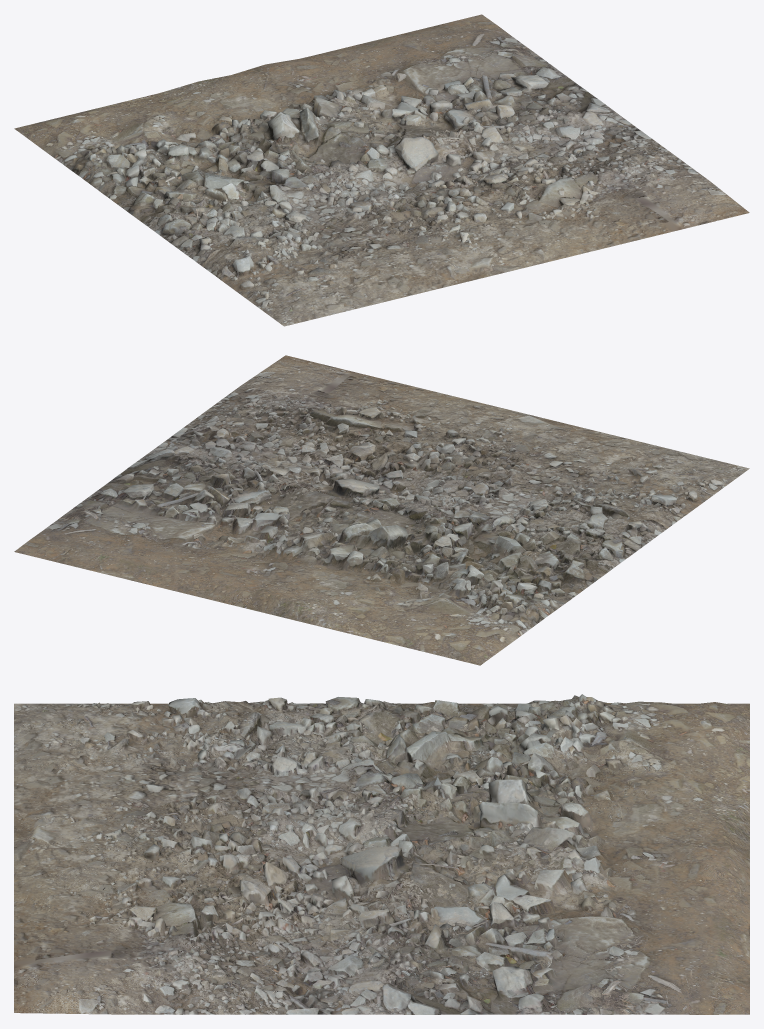
Rendered from sm_Ground_01_03.fbx.
3 renders of one model, top to bottom at view 1: azimuth 30°, elevation 25°; view 2: azimuth 150°, elevation 25°; view 3: azimuth 270°, elevation 25°, orthographic. The views are drawn at different scales.
Parts seen in each view (by area): view 1: sm_Ground_01_03_LOD0; view 2: sm_Ground_01_03_LOD0; view 3: sm_Ground_01_03_LOD0.
Boxes of the visible parts, x1=… form: sm_Ground_01_03_LOD0: x1=14, y1=14, x2=749, y2=326; sm_Ground_01_03_LOD0: x1=14, y1=355, x2=749, y2=665; sm_Ground_01_03_LOD0: x1=14, y1=694, x2=749, y2=1014.
Size of the model in its own units: 318 by 317 by 23.59.
